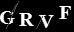F: (57, 5, 72, 20)
G: (1, 9, 15, 25)
R: (17, 12, 34, 27)
V: (37, 14, 55, 29)
